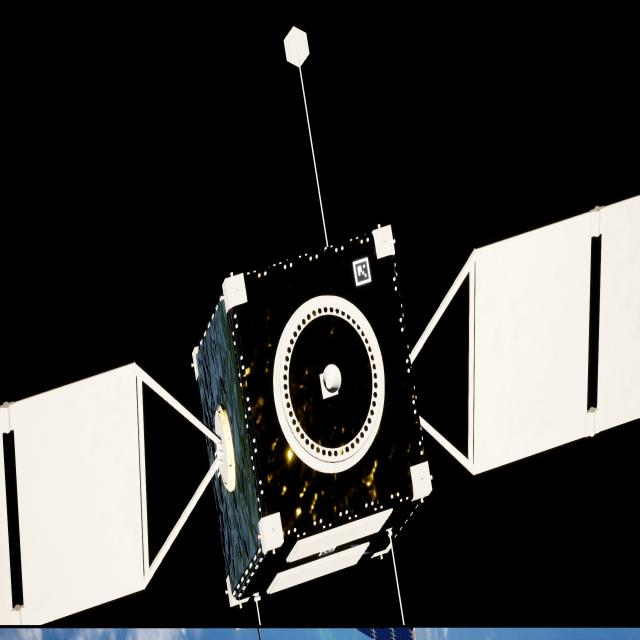satellite: (0, 196, 639, 629)
